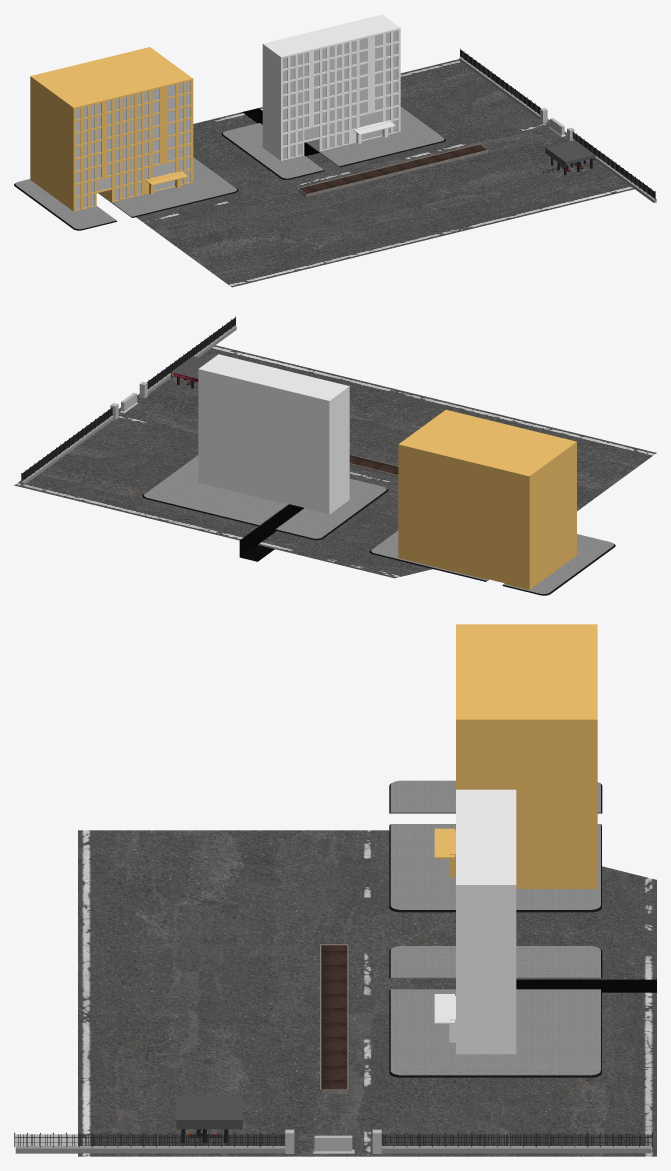
File: backgroundscene.fbx
The picture shows the model from 3 angles, top to bottom: view 1: azimuth 30°, elevation 25°; view 2: azimuth 150°, elevation 25°; view 3: azimuth 270°, elevation 25°; orthographic projection. The views are drawn at different scales.
Visible parts, largest first — view 1: Plane.011, Cube.035, Cube.031, Plane.012, Plane.013, Cube.034, Cube.033, Cube.030, Cube.038, Cube.039, Cube.037; view 2: Plane.011, Cube.035, Cube.031, Plane.012, Cube.034, Plane.013, Cube.030, Cube.038, Cube.037, Cube.033, Cube.039; view 3: Plane.011, Cube.035, Plane.012, Cube.031, Plane.013, Cube.038, Cube.033, Cube.037, Cube.034, Cube.039, Cube.030, Cube.036.
Boxes of the visible parts, x1,y1,x2,y2 form: Plane.011: (136, 59, 634, 287); Cube.035: (30, 47, 193, 197); Cube.031: (262, 14, 400, 146); Plane.012: (221, 106, 445, 179); Plane.013: (14, 157, 238, 230); Cube.034: (30, 166, 193, 211); Cube.033: (297, 143, 488, 196); Cube.030: (262, 118, 400, 160); Cube.038: (460, 48, 655, 199); Cube.039: (545, 140, 595, 167); Cube.037: (459, 57, 656, 202); Plane.011: (14, 345, 656, 578); Cube.035: (398, 409, 576, 574); Cube.031: (198, 354, 349, 498); Plane.012: (142, 455, 388, 540); Cube.034: (398, 540, 576, 589); Plane.013: (369, 530, 615, 595); Cube.030: (198, 467, 349, 514); Cube.038: (21, 316, 235, 482); Cube.037: (20, 326, 236, 485); Cube.033: (349, 454, 398, 477); Cube.039: (171, 356, 209, 381); Plane.011: (78, 830, 656, 1156); Cube.035: (456, 624, 597, 865); Plane.012: (389, 946, 602, 1077); Cube.031: (456, 789, 516, 1031); Plane.013: (389, 780, 602, 912); Cube.038: (14, 1132, 652, 1147); Cube.033: (320, 944, 348, 1093); Cube.037: (15, 1146, 651, 1153); Cube.034: (434, 828, 597, 888); Cube.039: (176, 1096, 242, 1129); Cube.030: (434, 994, 516, 1054); Cube.036: (312, 1135, 354, 1153).
Bounding box in the file's own units: 30917 × 7598 × 22440.
